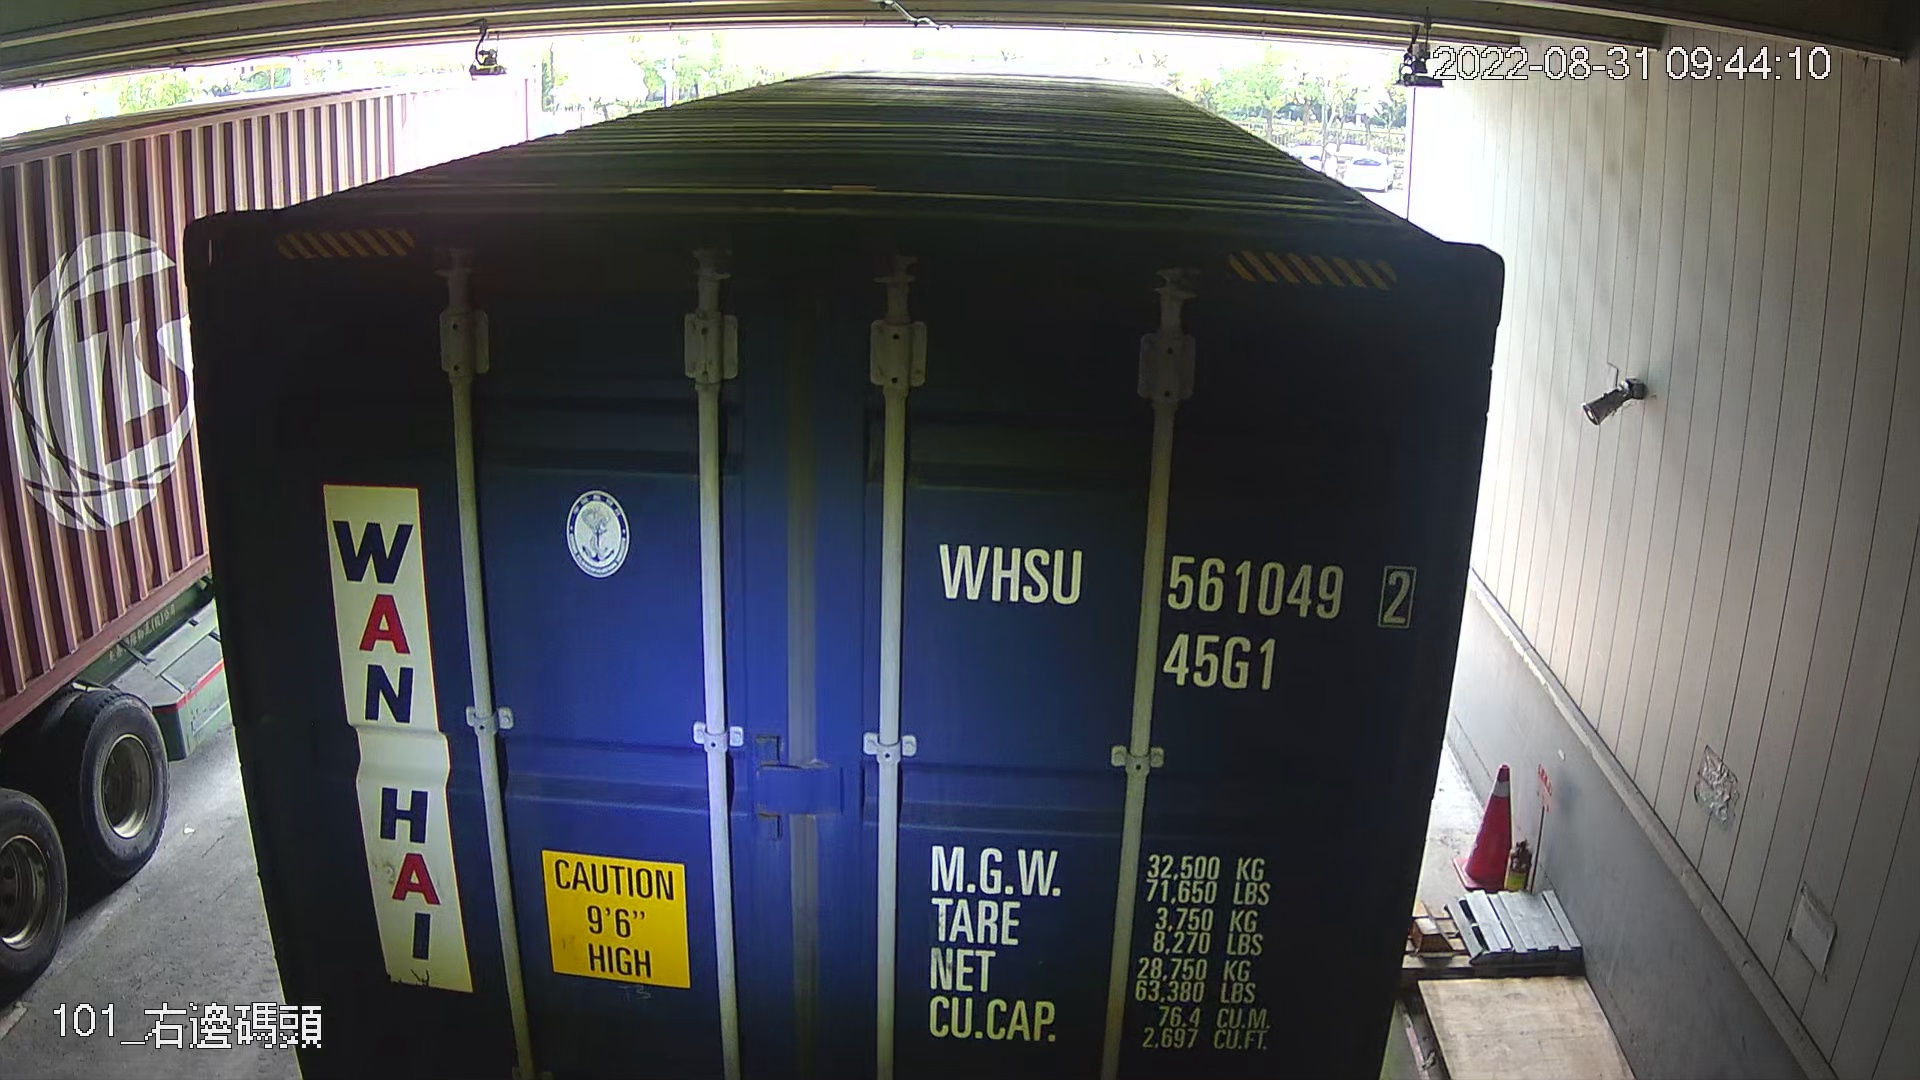container: (916, 522, 1428, 702)
